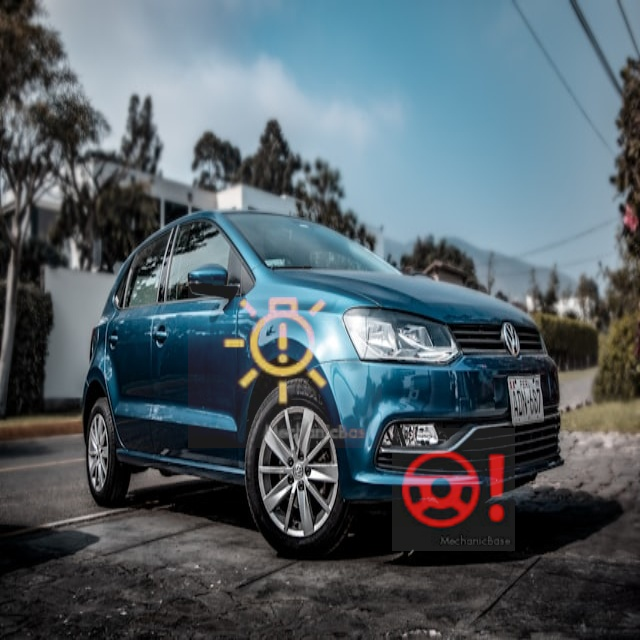symbol: (188, 254, 382, 448), (392, 428, 515, 551)
